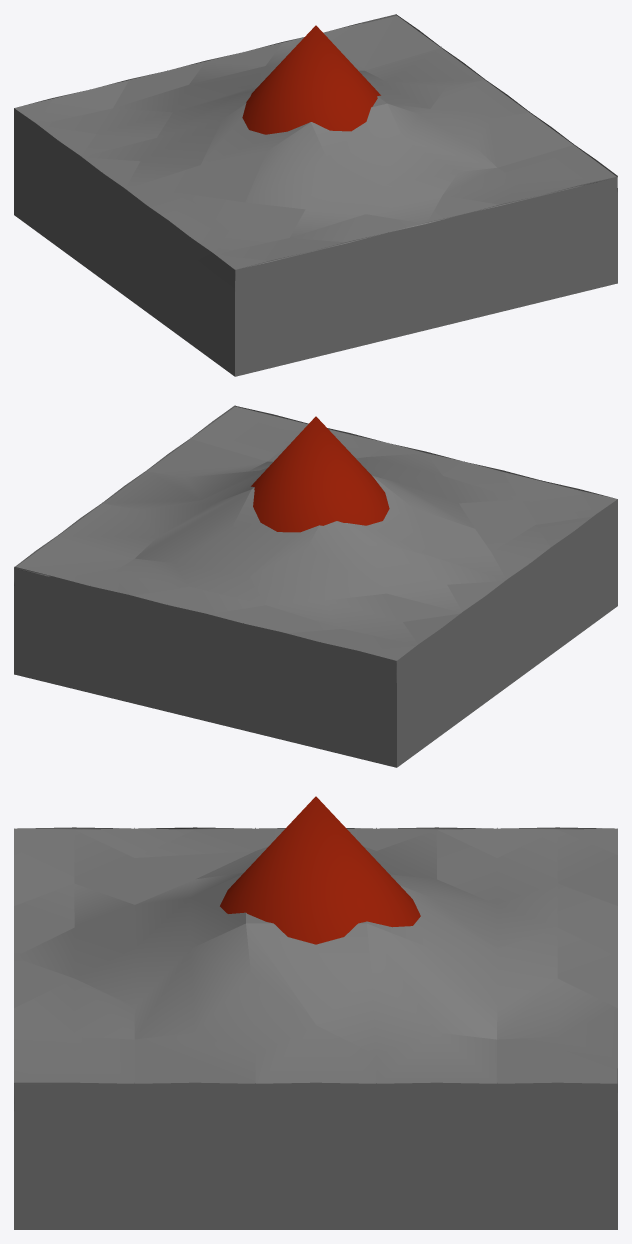
File: Laser.fbx
3 renders of one model, top to bottom at view 1: azimuth 30°, elevation 25°; view 2: azimuth 150°, elevation 25°; view 3: azimuth 270°, elevation 25°, orthographic. The views are drawn at different scales.
Parts seen in each view (by area): view 1: pCube1, pCone1; view 2: pCube1, pCone1; view 3: pCube1, pCone1.
Boxes of the visible parts, box(x1,y1,x2,y2) form: pCube1: box(14, 14, 617, 376); pCone1: box(242, 25, 380, 134); pCube1: box(14, 405, 617, 767); pCone1: box(251, 416, 389, 532); pCube1: box(14, 827, 617, 1229); pCone1: box(220, 796, 420, 944).
Size of the model in its own units: 1 by 0.5595 by 1.
